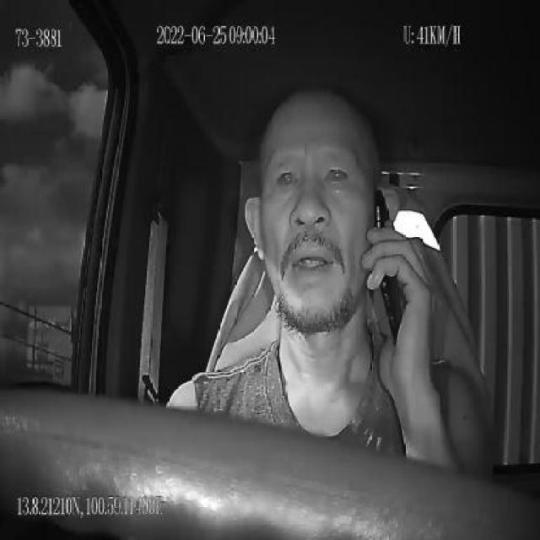phone: (374, 186, 400, 351)
